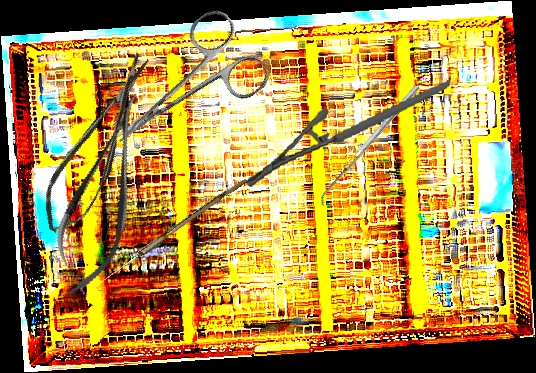Iris Scissors: (88, 3, 275, 175)
Micro Scissor: (39, 83, 167, 305), (28, 47, 170, 242)
Needle Holder: (234, 80, 461, 190)
Spatula Surgical: (315, 84, 425, 208)
Surgical Spoon: (100, 175, 248, 285)
